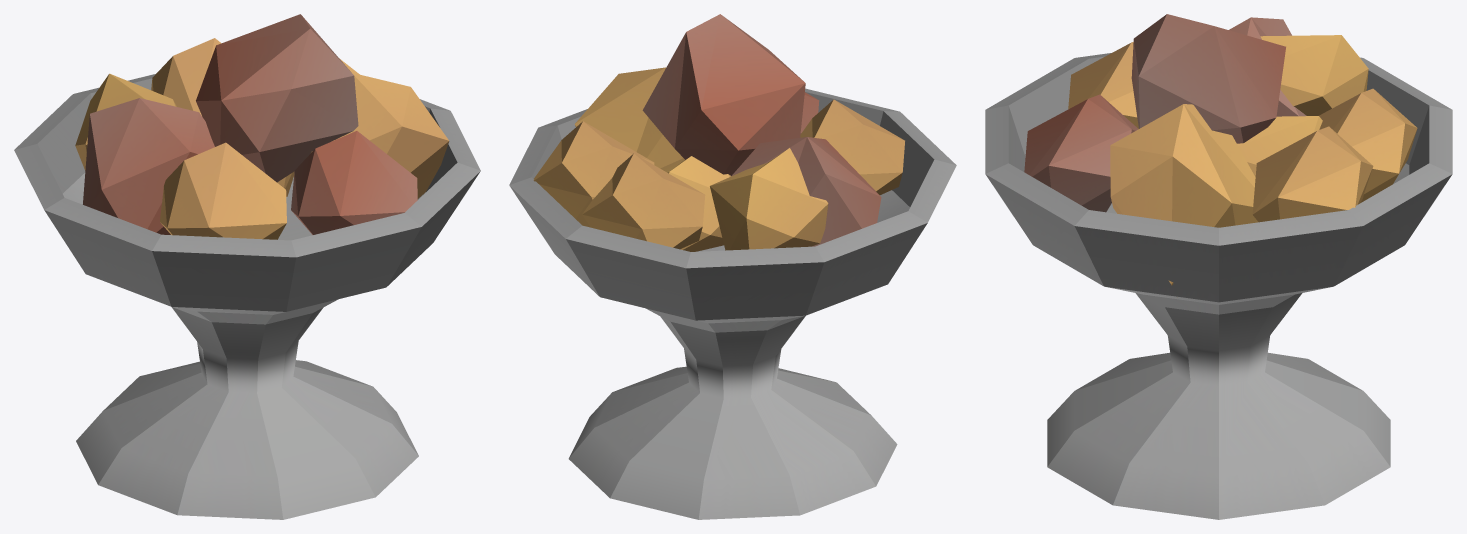
File: DumplingBowl.fbx
The picture shows the model from 3 angles, left to right: view 1: azimuth 30°, elevation 25°; view 2: azimuth 150°, elevation 25°; view 3: azimuth 270°, elevation 25°; orthographic projection. The views are drawn at different scales.
Visible parts, largest first — view 1: DumplingBowl; view 2: DumplingBowl; view 3: DumplingBowl.
Boxes of the visible parts, x1,y1,x2,y2 form: DumplingBowl: (14, 14, 480, 519); DumplingBowl: (509, 14, 956, 519); DumplingBowl: (985, 14, 1452, 519).
Size of the model in its own units: 0.3069 by 0.3095 by 0.2919.
